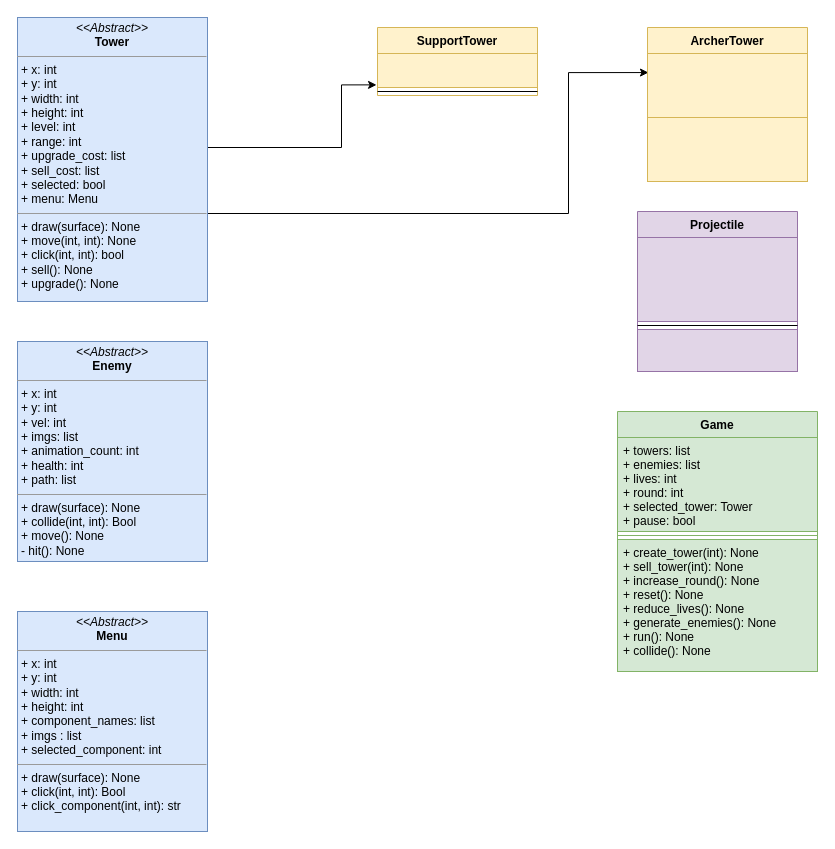
This 835x849 diagram has some shape labels left out. Here are the shapes that lost their labels. From the top down, the centre of each, then its label:
At point (457, 70): "+ img: surface".
At point (727, 85): "+ tower_imgs: list + archer_imgs: list + archer_count: int".
At point (727, 149): "+ attack(list): list".
At point (717, 279): "+ x: int + y: int + img: surface + target: tuple + vel: int".
At point (717, 350): "+ draw(surface): None + move(): None".
